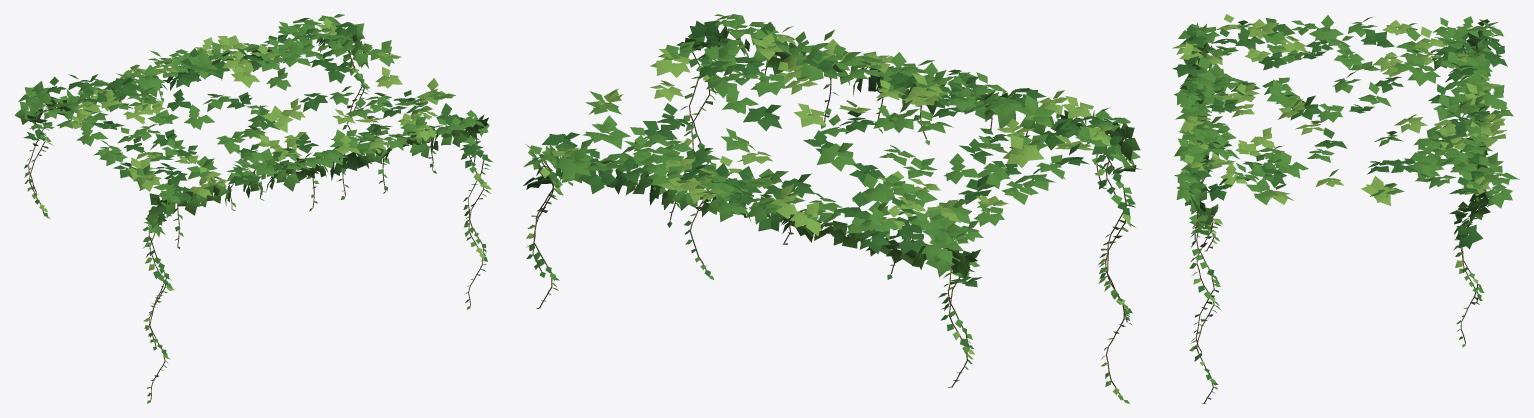
File: rooftop_pergola_vines.glb
3 views of the same model, side by side, from view 1: azimuth 30°, elevation 25°; view 2: azimuth 150°, elevation 25°; view 3: azimuth 270°, elevation 25° (orthographic). The views are drawn at different scales.
Visible parts, largest first — view 1: Top1; view 2: Top24, Top72, Top145, Top113, Top162, Spill22, Top42, Top137, Top56; view 3: Top134, Top161, Top85, Top158, Knot1-12, Top7, Top74, Top137, Top163, Top21, Top48, Top108 (+13 smaller).
Boxes of the visible parts, left/top/right/bottom form: Top1: left=24, top=81, right=51, bottom=111; Top24: left=1003, top=134, right=1044, bottom=167; Top72: left=817, top=142, right=855, bottom=171; Top145: left=553, top=146, right=590, bottom=178; Top113: left=743, top=104, right=781, bottom=130; Top162: left=650, top=48, right=690, bottom=77; Spill22: left=688, top=20, right=722, bottom=48; Top42: left=1014, top=94, right=1055, bottom=127; Top137: left=704, top=63, right=742, bottom=97; Top56: left=790, top=202, right=822, bottom=235; Top134: left=1410, top=155, right=1443, bottom=178; Top161: left=1361, top=176, right=1397, bottom=205; Top85: left=1433, top=93, right=1460, bottom=121; Top158: left=1484, top=183, right=1512, bottom=208; Knot1-12: left=1456, top=224, right=1482, bottom=249; Top7: left=1309, top=15, right=1343, bottom=41; Top74: left=1267, top=79, right=1299, bottom=106; Top137: left=1277, top=151, right=1308, bottom=178; Top163: left=1246, top=178, right=1279, bottom=204; Top21: left=1360, top=28, right=1394, bottom=47; Top48: left=1407, top=63, right=1440, bottom=86; Top108: left=1481, top=121, right=1506, bottom=147.
Size of the model in its own units: 3.13 by 1.91 by 2.46.
